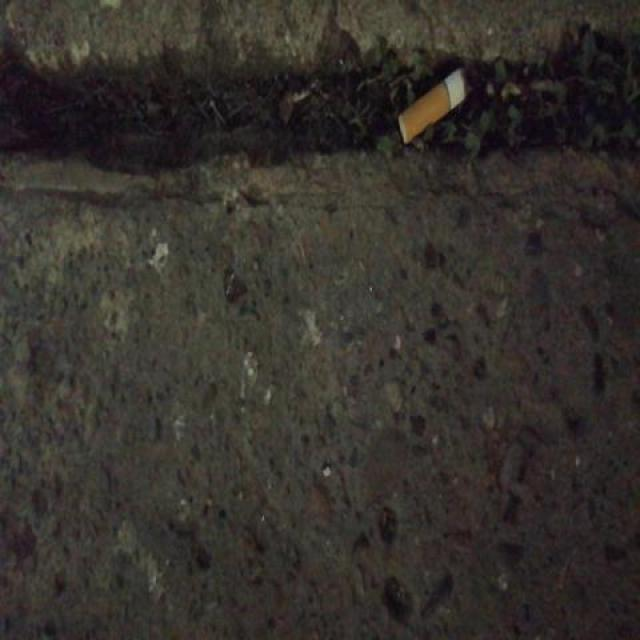non-organic waste: (392, 63, 472, 152)
